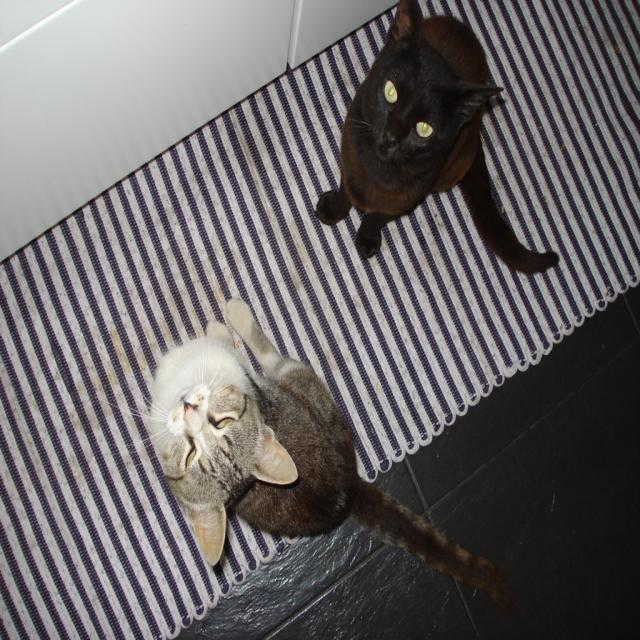Cat: (97, 296, 512, 612), (312, 0, 559, 274)
